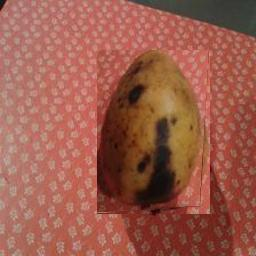Mango Semirotten: (98, 51, 211, 215)
